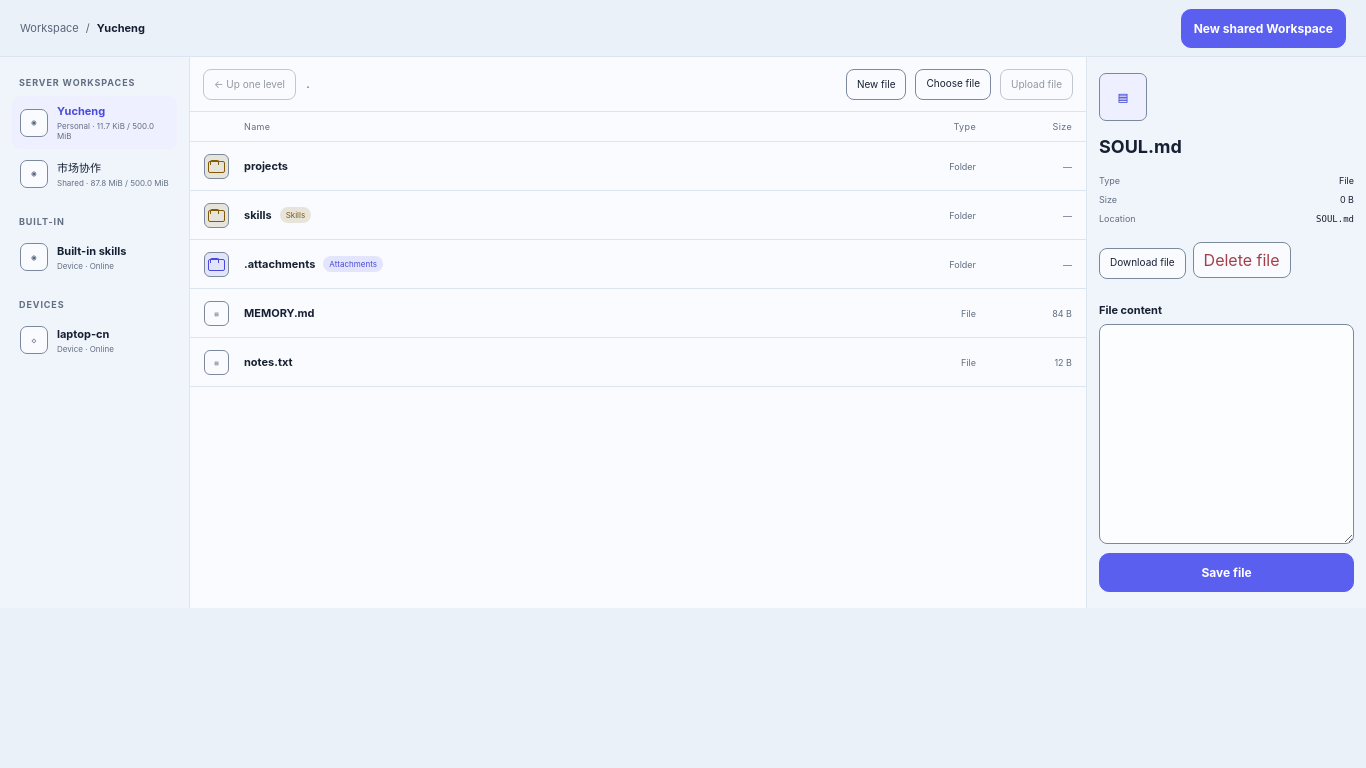
Test: WorkspacePage › creates a missing personal agent file from its account-page deep link
Type "My personal identity" into the text box labelled "File content" at (1226, 434), box [1099,324,1354,544]
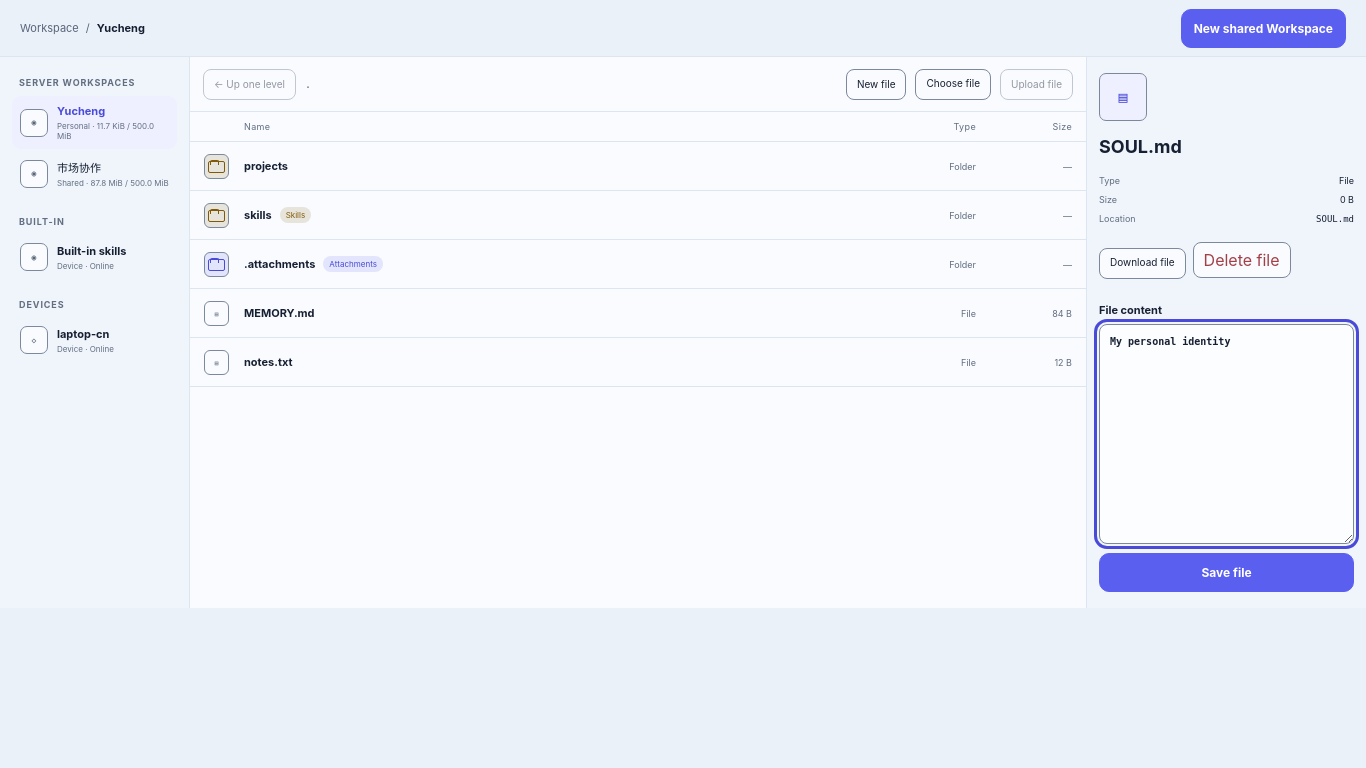
Click the button "Save file" at (1226, 572), box [1099,553,1354,592]
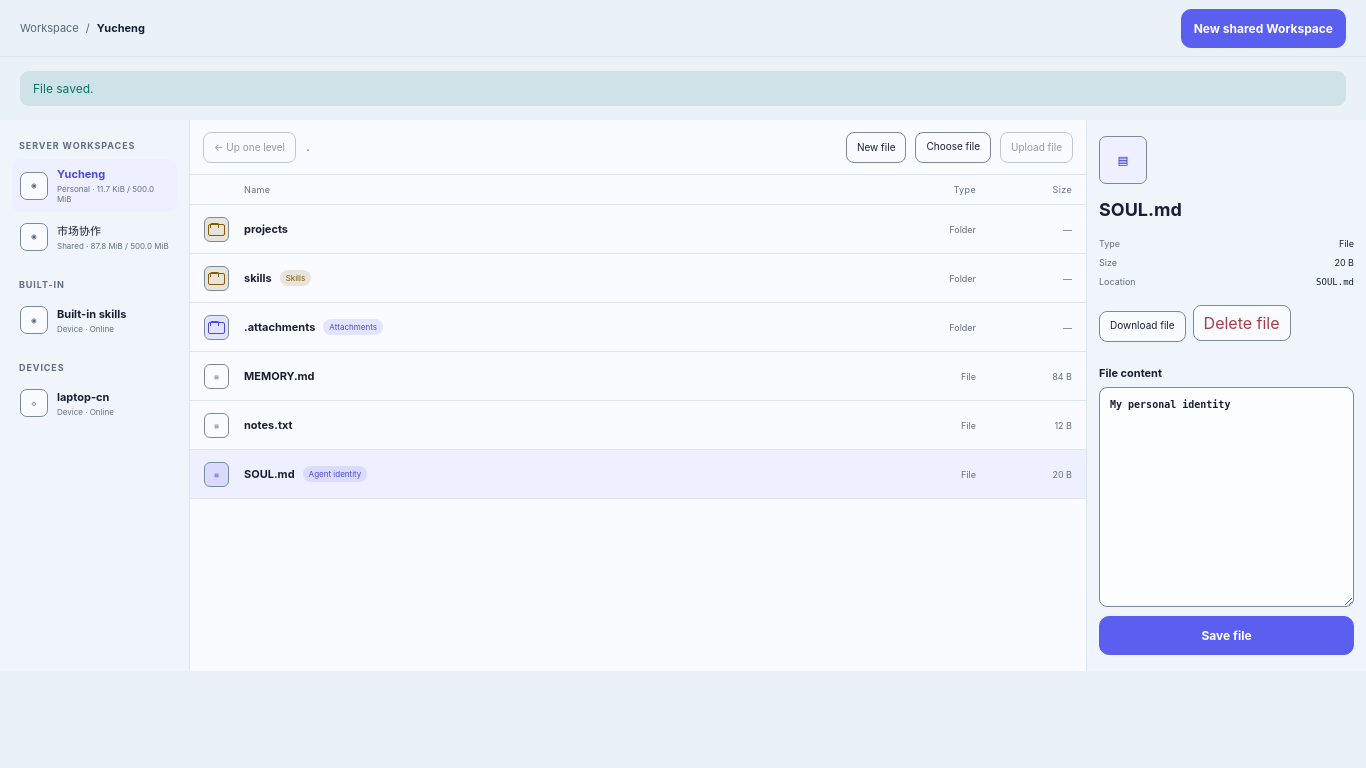
Expected: the text "File saved." is shown, [20,71,1346,106]
